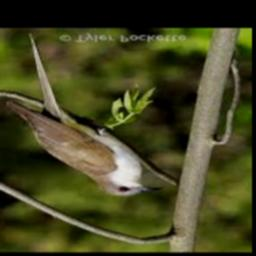Cuckoo: (5, 101, 164, 196)
